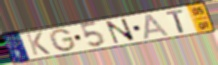5: (78, 20, 107, 49)
A: (144, 13, 173, 40)
G: (48, 27, 79, 52)
K: (24, 31, 52, 57)
N: (104, 17, 138, 45)
T: (165, 8, 187, 34)
